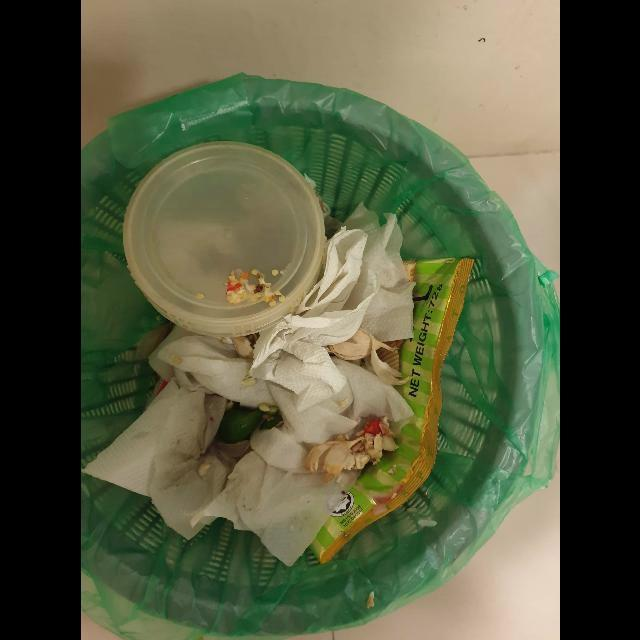food_wrapper: (311, 258, 474, 565)
paper: (249, 203, 414, 444), (86, 330, 270, 539), (189, 423, 345, 568)
